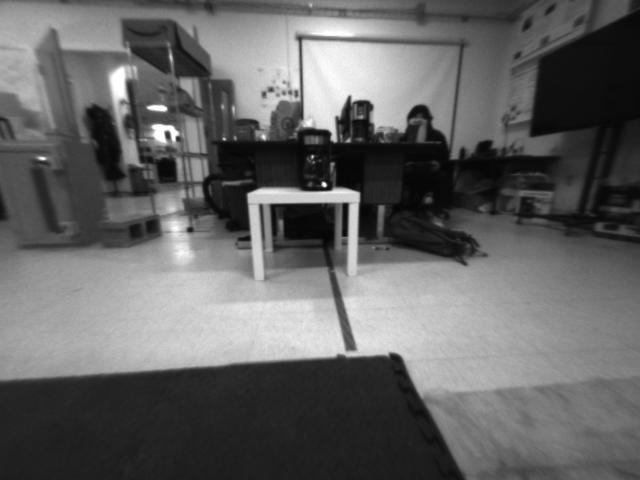coffee_pot: (293, 125, 336, 192)
